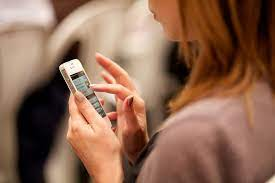Mobile-phone: (60, 58, 113, 129)
